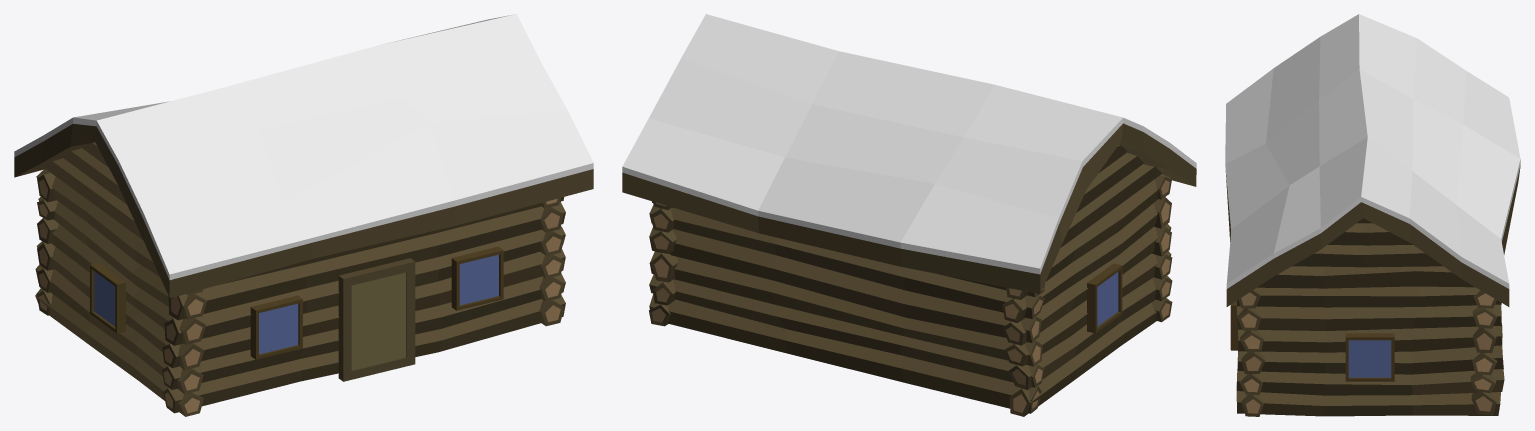
File: Log house.fbx
The picture shows the model from 3 angles, left to right: view 1: azimuth 30°, elevation 25°; view 2: azimuth 150°, elevation 25°; view 3: azimuth 270°, elevation 25°; orthographic projection. The views are drawn at different scales.
Parts seen in each view (by area): view 1: Roof, wall 1.002, wall 1.001, Door.001, window, window.001, wall 1, Walls, Circle.007, window.002, Cube.001, Circle.008 (+3 smaller); view 2: Roof, Walls, wall 1.001, wall 1, wall 1.002, Circle.007, window.002, Circle.008; view 3: Roof, wall 1, Circle.004, Circle.005, Walls, window.003, wall 1.002, Circle.006, window.
Part boxes in pixels (x1,y1,x2,y2): Roof: [14, 14, 593, 298]; wall 1.002: [162, 197, 565, 413]; wall 1.001: [35, 169, 206, 416]; Door.001: [351, 272, 406, 370]; window: [451, 246, 503, 310]; window.001: [250, 295, 302, 359]; wall 1: [539, 198, 564, 326]; Walls: [37, 173, 58, 315]; Circle.007: [44, 158, 142, 239]; window.002: [90, 262, 125, 333]; Cube.001: [338, 282, 351, 381]; Circle.008: [63, 148, 126, 204]; Roof: [622, 14, 1196, 294]; Walls: [649, 201, 1044, 413]; wall 1.001: [1002, 174, 1171, 416]; wall 1: [649, 201, 678, 326]; wall 1.002: [1151, 175, 1172, 322]; Circle.007: [1060, 164, 1161, 247]; window.002: [1087, 263, 1122, 333]; Circle.008: [1076, 153, 1143, 212]; Roof: [1225, 14, 1520, 306]; wall 1: [1236, 286, 1504, 416]; Circle.004: [1257, 266, 1474, 288]; Circle.005: [1292, 245, 1442, 267]; Walls: [1470, 290, 1497, 415]; window.003: [1345, 333, 1394, 381]; wall 1.002: [1237, 289, 1265, 416]; Circle.006: [1327, 223, 1412, 245]; window: [1230, 301, 1238, 349].
Bounding box in the file's own units: 2745 × 1581 × 1835.
